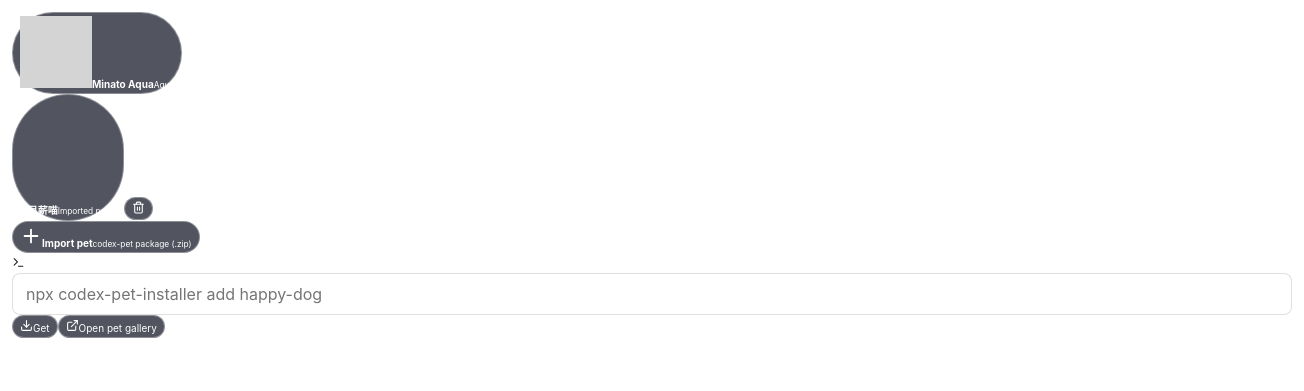
Scenario: PetThemeGrid removal › arms on the first click with visible and announced confirmation
Click the button named "Remove". click: [138, 208]
box: top-left (124, 197), bottom-right (153, 220)
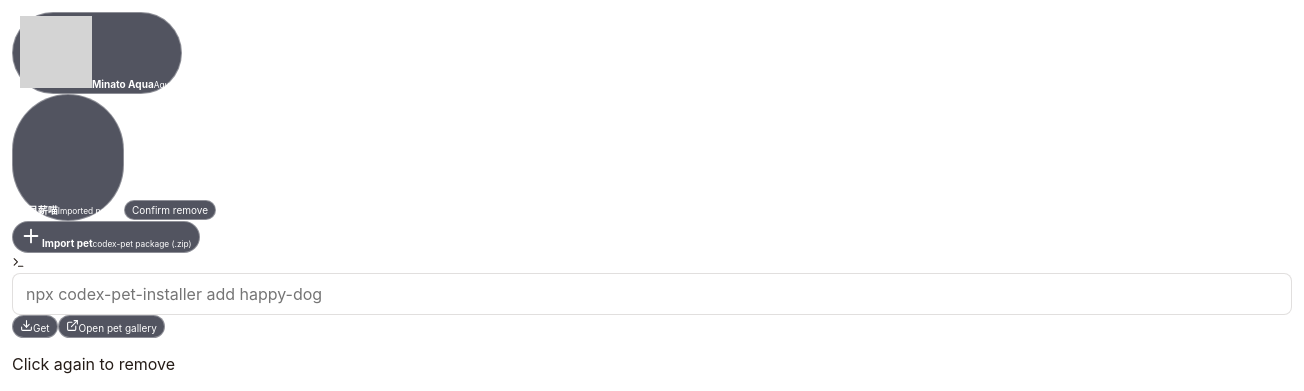
Check: the text "Confirm remove" is shown, box top-left (132, 204), bottom-right (208, 216)
Check: the message reads "Click again to remove", box top-left (12, 354), bottom-right (175, 374)
